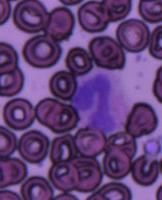N: (72, 68, 128, 134)
